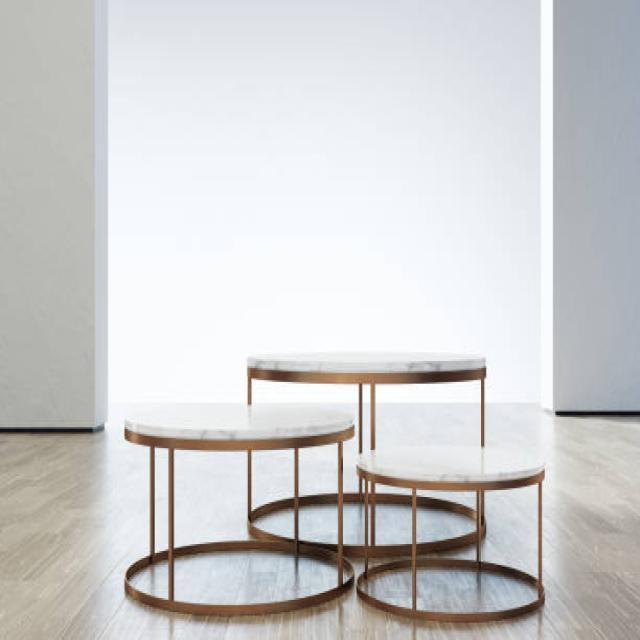table: (123, 400, 354, 616), (354, 443, 546, 621)
